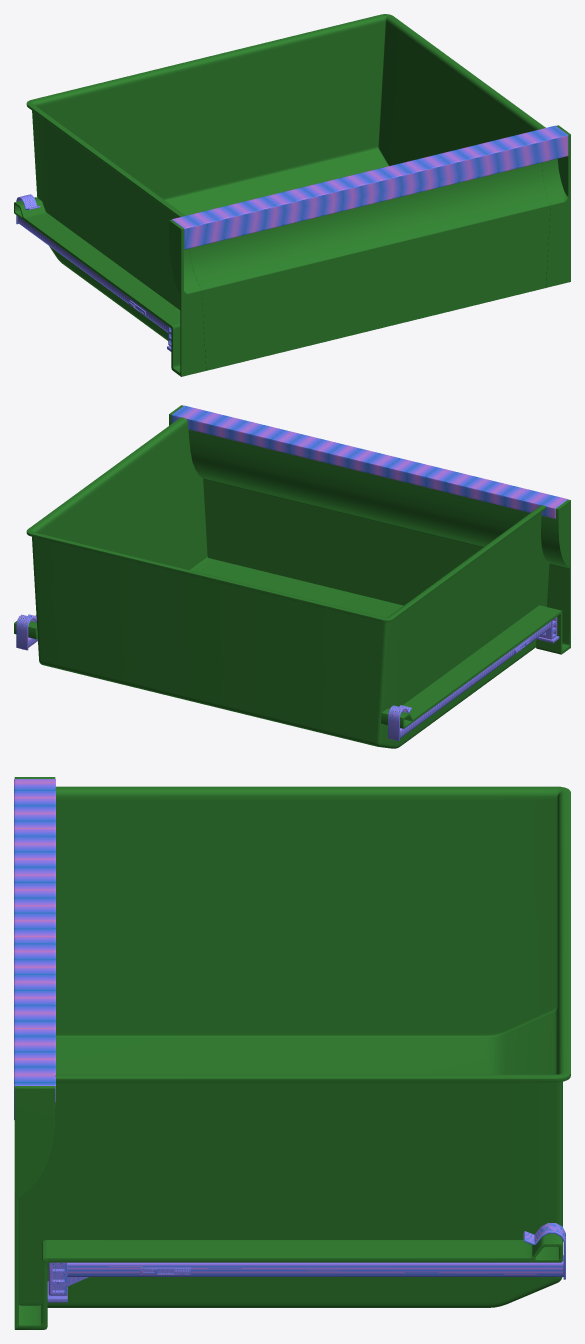
Rendered from SM_Fridge_Drawer_01.fbx.
3 renders of one model, top to bottom at view 1: azimuth 30°, elevation 25°; view 2: azimuth 150°, elevation 25°; view 3: azimuth 270°, elevation 25°, orthographic. The views are drawn at different scales.
Parts seen in each view (by area): view 1: SM_Fridge_Drawer_01; view 2: SM_Fridge_Drawer_01; view 3: SM_Fridge_Drawer_01.
Boxes of the visible parts, <box> form: SM_Fridge_Drawer_01: <box>14,14,570,376</box>; SM_Fridge_Drawer_01: <box>14,405,570,748</box>; SM_Fridge_Drawer_01: <box>14,777,570,1329</box>.
Bounding box in the file's own units: 45.43 × 16.5 × 34.36.
Materials: 3 (2 with a texture image).
